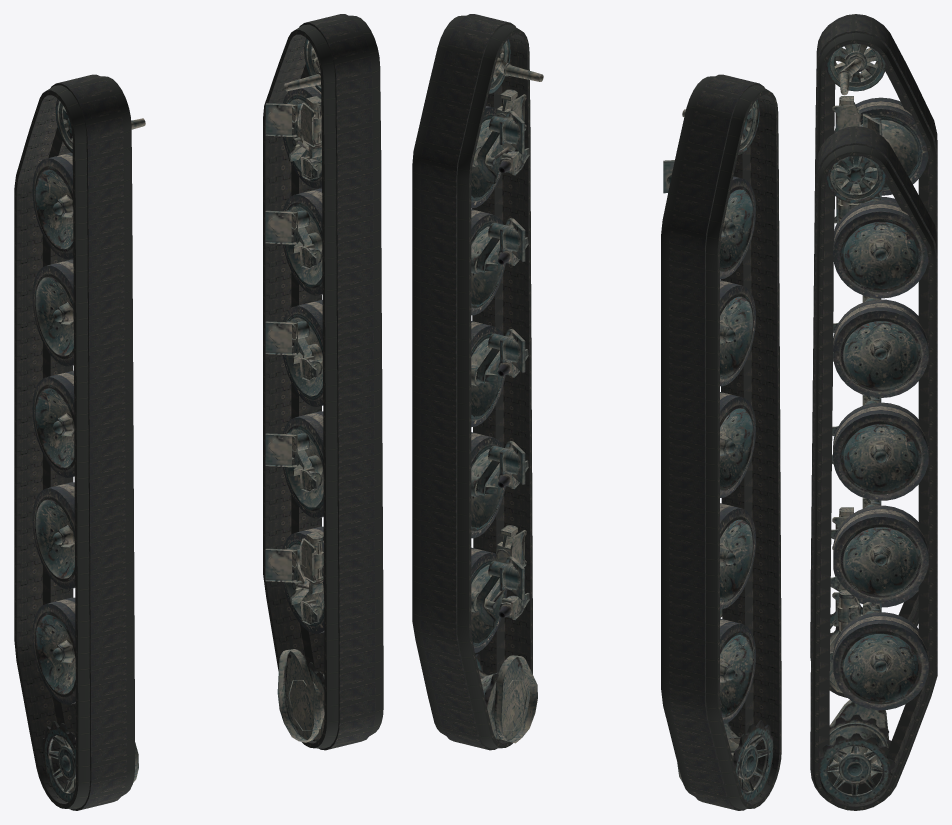
File: Chassis.glb
The picture shows the model from 3 angles, left to right: view 1: azimuth 30°, elevation 25°; view 2: azimuth 150°, elevation 25°; view 3: azimuth 270°, elevation 25°; orthographic projection. The views are drawn at different scales.
Parts seen in each view (by area): view 1: set_0_group_0, set_1_group_0, set_3_group_0, set_2_group_0; view 2: set_0_group_0, set_1_group_0, set_3_group_0, set_2_group_0; view 3: set_3_group_0, set_1_group_0, set_0_group_0, set_2_group_0.
Boxes of the visible parts, x1,y1,x2,y2 form: set_0_group_0: (14, 74, 134, 810); set_1_group_0: (263, 14, 383, 750); set_3_group_0: (265, 38, 324, 742); set_2_group_0: (32, 99, 145, 802); set_0_group_0: (661, 74, 781, 810); set_1_group_0: (412, 14, 532, 750); set_3_group_0: (471, 38, 543, 743); set_2_group_0: (663, 99, 773, 802); set_3_group_0: (819, 156, 928, 803); set_1_group_0: (810, 126, 937, 810); set_0_group_0: (810, 14, 937, 697); set_2_group_0: (826, 43, 928, 693).
Size of the model in its own units: 3.07 by 6.93 by 1.2.
Materials: 4 (4 with a texture image).
